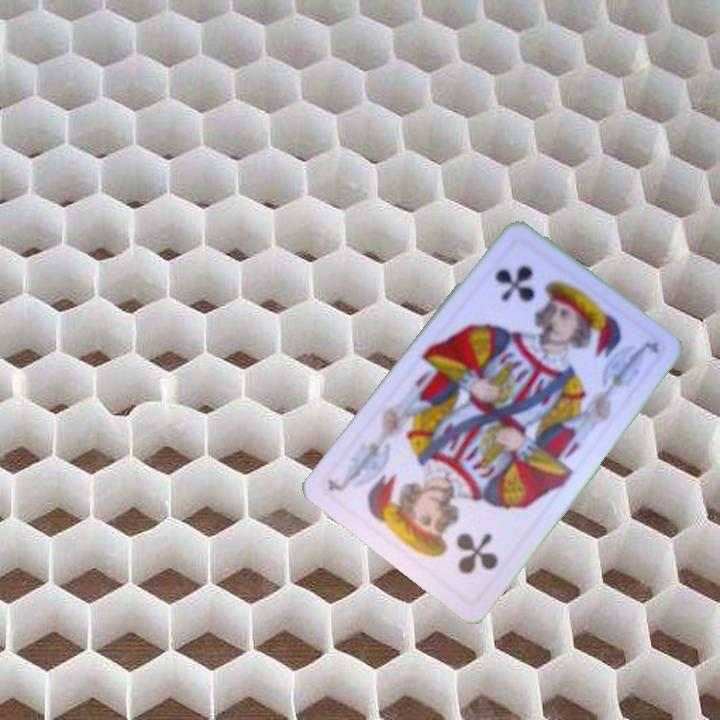c_j.png: (465, 234, 594, 361), (395, 479, 524, 605)
